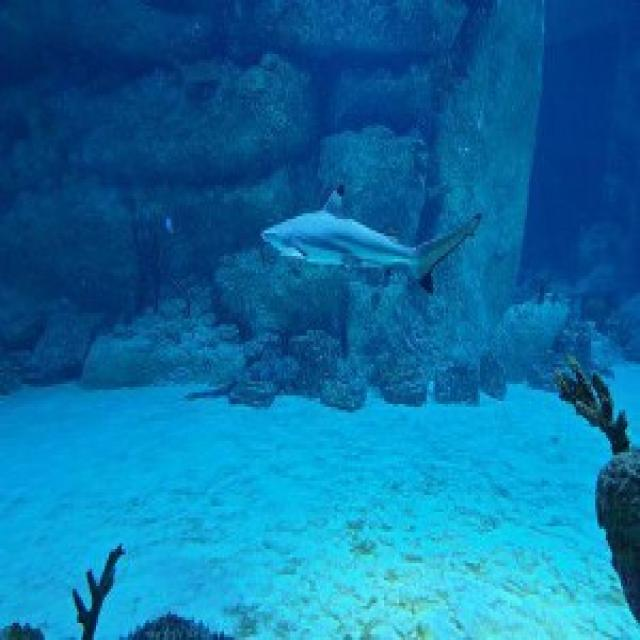Shark: (260, 171, 487, 318)
